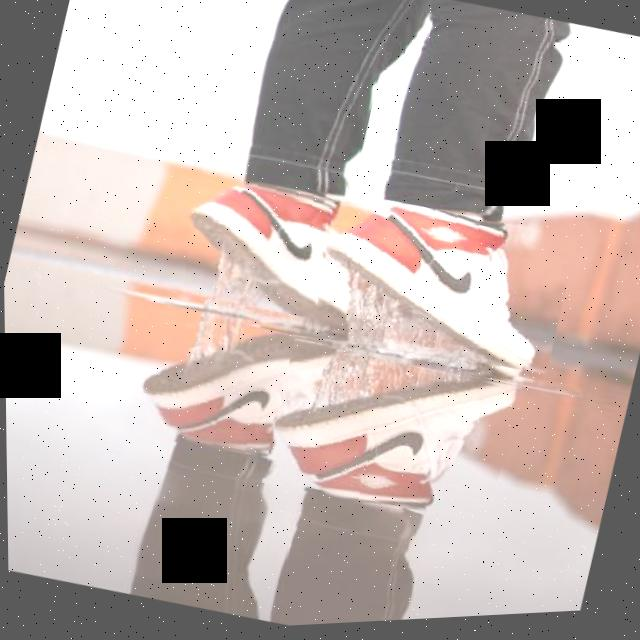shoe: (299, 183, 578, 399), (258, 332, 523, 542), (127, 303, 333, 478), (162, 161, 368, 335)
